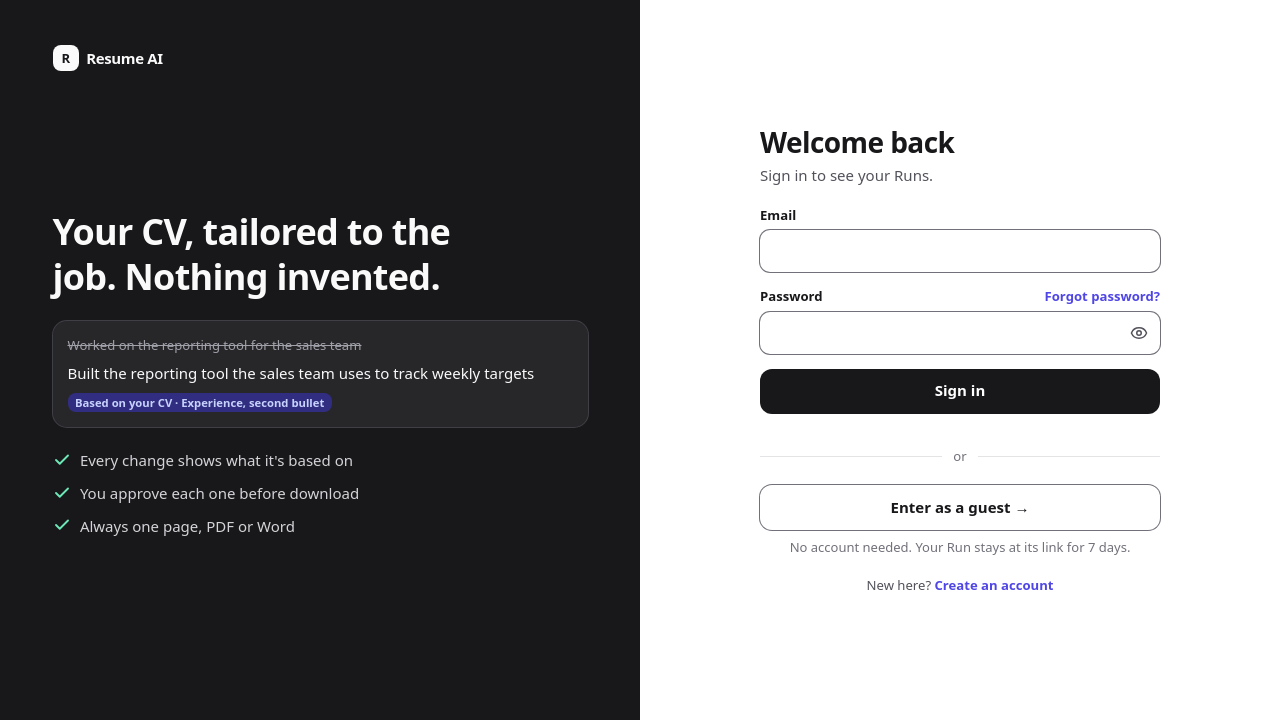
it: Sign in › toggles the password without submitting
The width and height of the screenshot is (1280, 720).
Step 1. Click the button named "Show password" → (1139, 332), box [1119,312,1160,354]
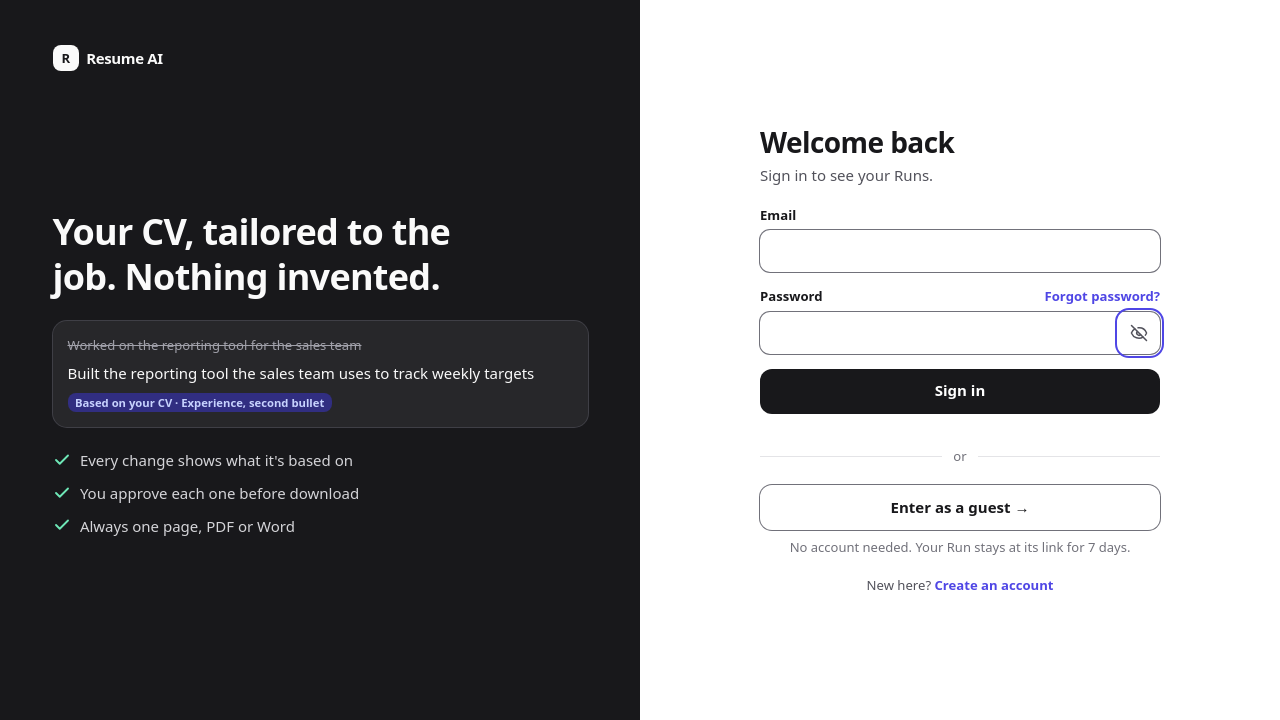
Check: the button named "Hide password" is shown, box [1119,312,1160,354]
